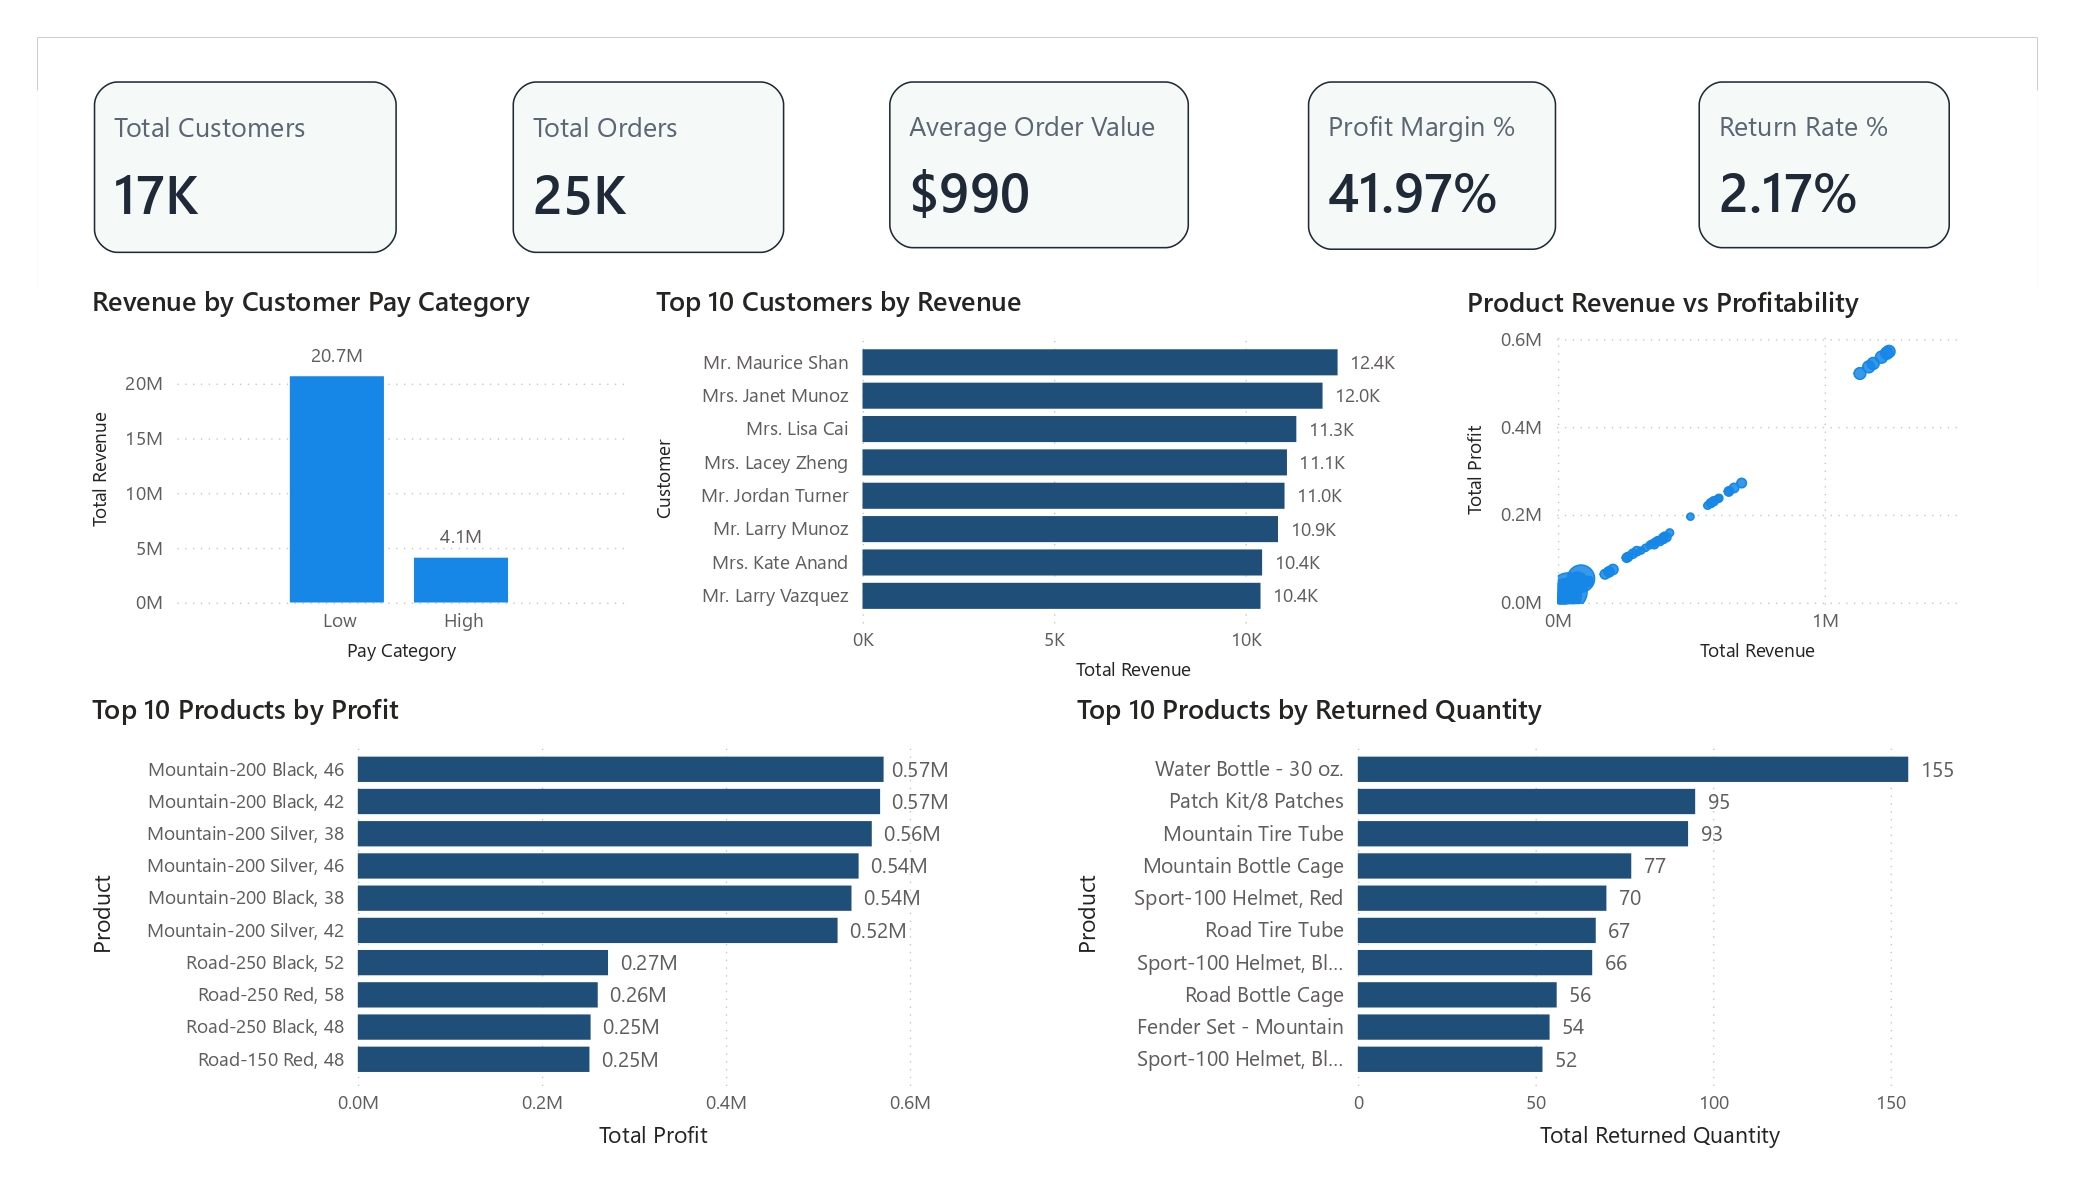

Layout of this report page (visuals, bound fields, positions):
{"tool":"powerbi","page":{"name":"Customer & Product Analytics","canvas":[1280,720],"ordinal":1},"visuals":[{"type":"cardVisual","fields":{"Data":["Sales 2015-2017.Total Customers"]},"box":[30.6,23.2,204.2,120],"z":0},{"type":"cardVisual","fields":{"Data":["Sales 2015-2017.Total Orders"]},"box":[298.7,23.1,184.7,119.7],"z":1000},{"type":"cardVisual","fields":{"Data":["Sales 2015-2017.Profit Margin %"]},"box":[807.9,23.1,168.8,118.3],"z":2000},{"type":"cardVisual","fields":{"Data":["Sales 2015-2017.Average Order Value"]},"box":[539.6,23.1,202,116.9],"z":3000},{"type":"clusteredColumnChart","title":"Revenue by Customer Pay Category","fields":{"Category":["Customers.Pay Category"],"Y":["Sales 2015-2017.Total Revenue"]},"box":[30.3,155.8,350.6,249.6],"z":4000},{"type":"clusteredBarChart","title":"Top 10 Customers by Revenue","fields":{"Category":["Customers.Full Name"],"Y":["Sales 2015-2017.Total Revenue"]},"box":[391,155.8,499.2,261.1],"z":5000},{"type":"scatterChart","title":"Product Revenue vs Profitability","fields":{"X":["Sales 2015-2017.Total Revenue"],"Y":["Sales 2015-2017.Total Profit"],"Category":["Products.ProductName"],"Size":["Sales 2015-2017.Total Quantity"]},"box":[910.4,157.3,337.6,248.2],"z":6000},{"type":"clusteredBarChart","title":"Top 10 Products by Profit","fields":{"Y":["Sales 2015-2017.Total Profit"],"Category":["Products.ProductName"]},"box":[29.9,416.7,571.7,300.1],"z":7000},{"type":"cardVisual","fields":{"Data":["Returns.Return Rate %"]},"box":[1057.5,23.1,171.7,116.9],"z":8000},{"type":"clusteredBarChart","title":"Top 10 Products by Returned Quantity","fields":{"Y":["Returns.Total Returned Quantity"],"Category":["Products.ProductName"]},"box":[660.3,417,587,299.6],"z":9000}]}

Visuals, with their boxes on the page's 1280x720 design canvas (x1, y1, x2, y2). These are canvas units, not pixel positions in the 2075x1200 screenshot, which may show the page scaled, cropped or inside an application window:
cardVisual - Sales 2015-2017.Total Customers: l=31, t=23, r=235, b=143
cardVisual - Sales 2015-2017.Total Orders: l=299, t=23, r=483, b=143
cardVisual - Sales 2015-2017.Profit Margin %: l=808, t=23, r=977, b=141
cardVisual - Sales 2015-2017.Average Order Value: l=540, t=23, r=742, b=140
"Revenue by Customer Pay Category" clusteredColumnChart: l=30, t=156, r=381, b=405
"Top 10 Customers by Revenue" clusteredBarChart: l=391, t=156, r=890, b=417
"Product Revenue vs Profitability" scatterChart: l=910, t=157, r=1248, b=406
"Top 10 Products by Profit" clusteredBarChart: l=30, t=417, r=602, b=717
cardVisual - Returns.Return Rate %: l=1058, t=23, r=1229, b=140
"Top 10 Products by Returned Quantity" clusteredBarChart: l=660, t=417, r=1247, b=717
